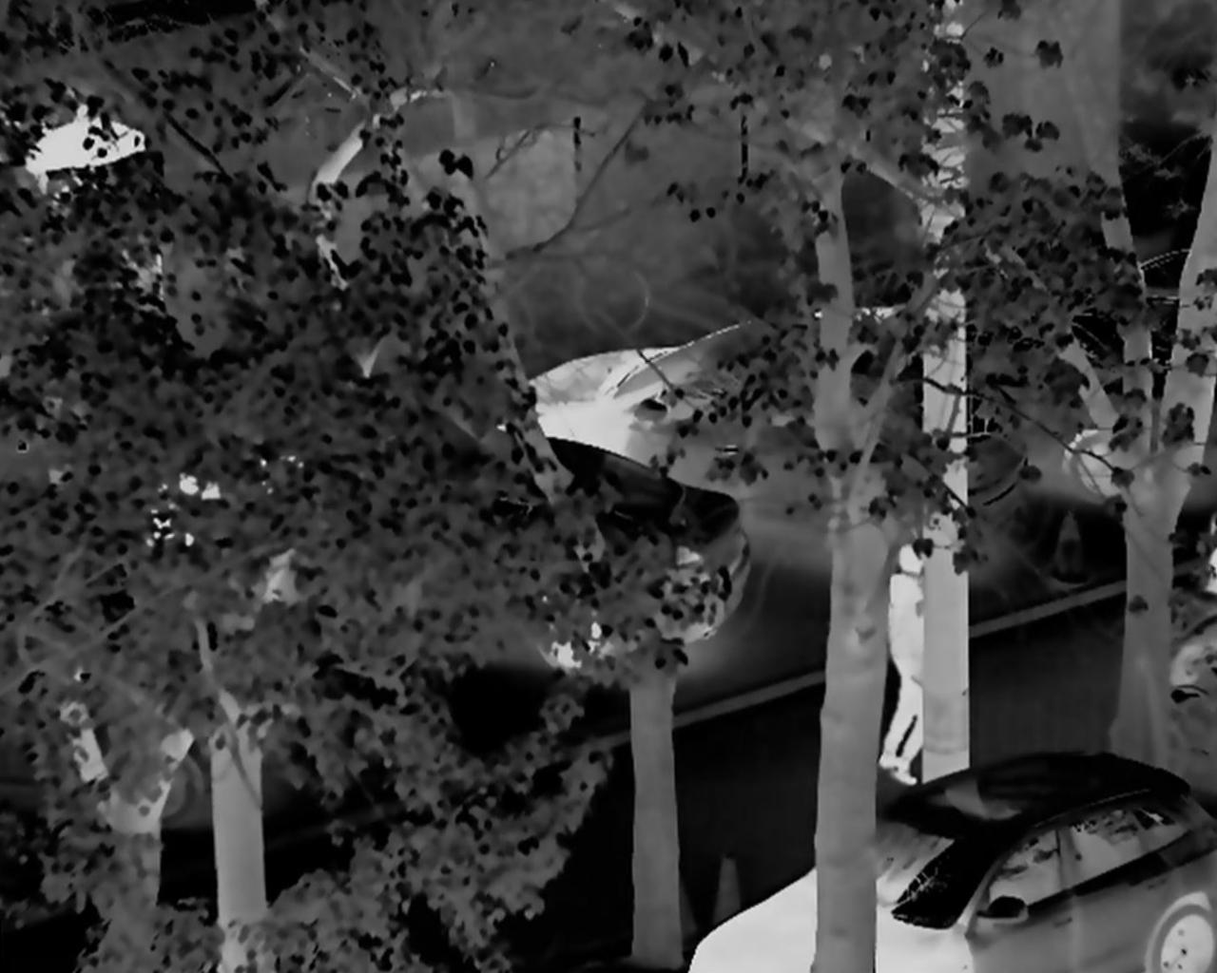person: (886, 534, 938, 802)
